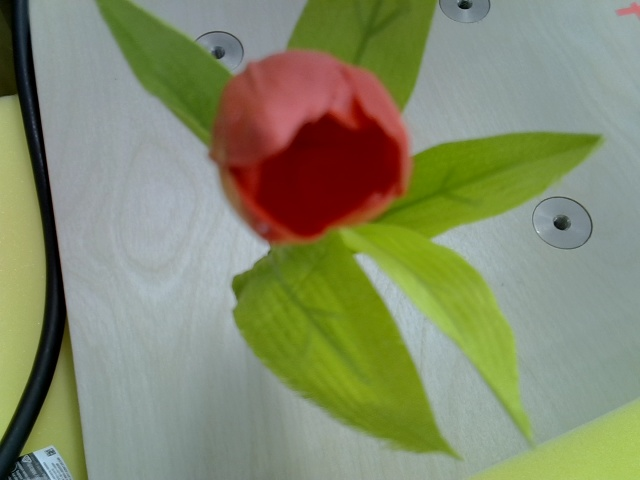튤립: (212, 52, 411, 247)
